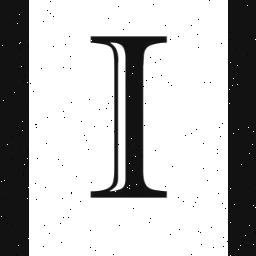i: (70, 6, 190, 224)
